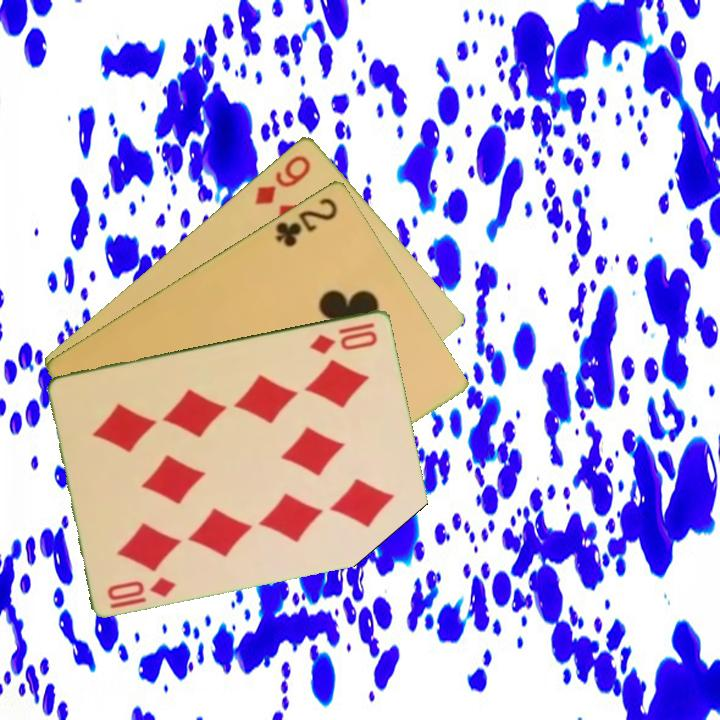10d: (306, 318, 381, 357), (104, 572, 179, 603)
2c: (271, 193, 341, 250)
9d: (251, 151, 314, 208)
